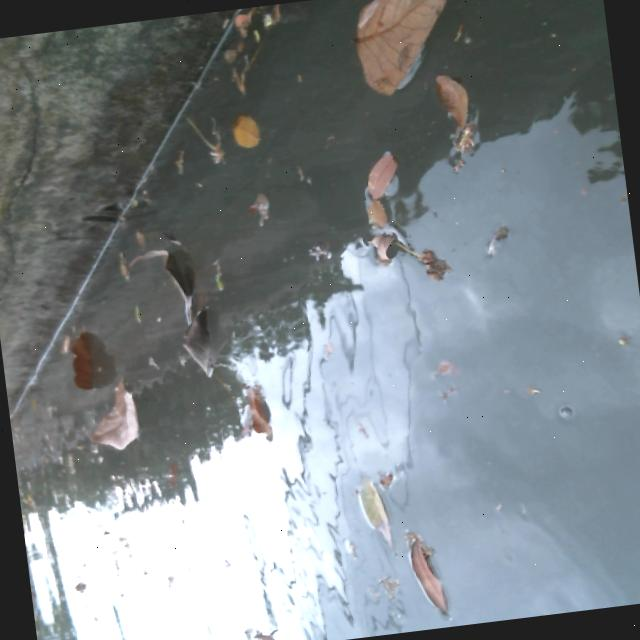Big-leaf: (342, 0, 478, 90), (87, 380, 149, 450), (65, 330, 112, 389), (235, 382, 281, 435)
Small-leaf: (426, 71, 490, 175), (395, 530, 456, 622), (343, 473, 392, 545), (361, 145, 409, 197), (203, 252, 244, 300), (359, 181, 402, 223), (229, 113, 270, 155), (113, 295, 153, 331), (108, 244, 138, 286), (363, 225, 396, 262), (51, 333, 76, 369), (246, 186, 275, 216), (233, 7, 255, 27)
